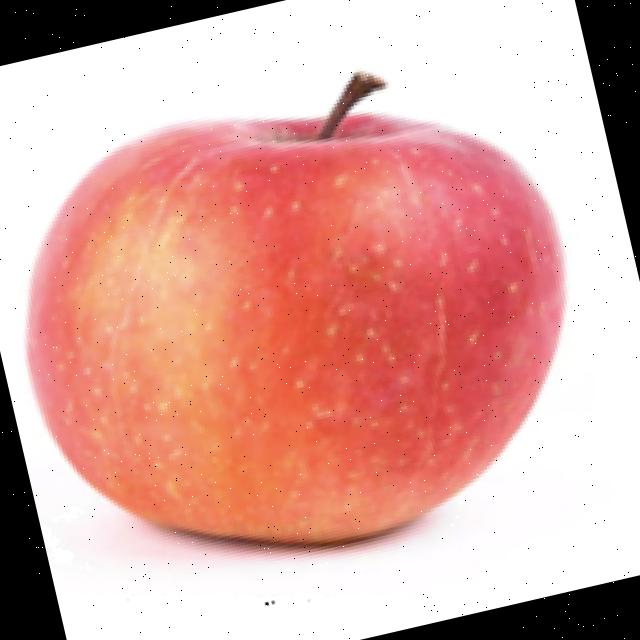apple: (20, 64, 572, 571)
